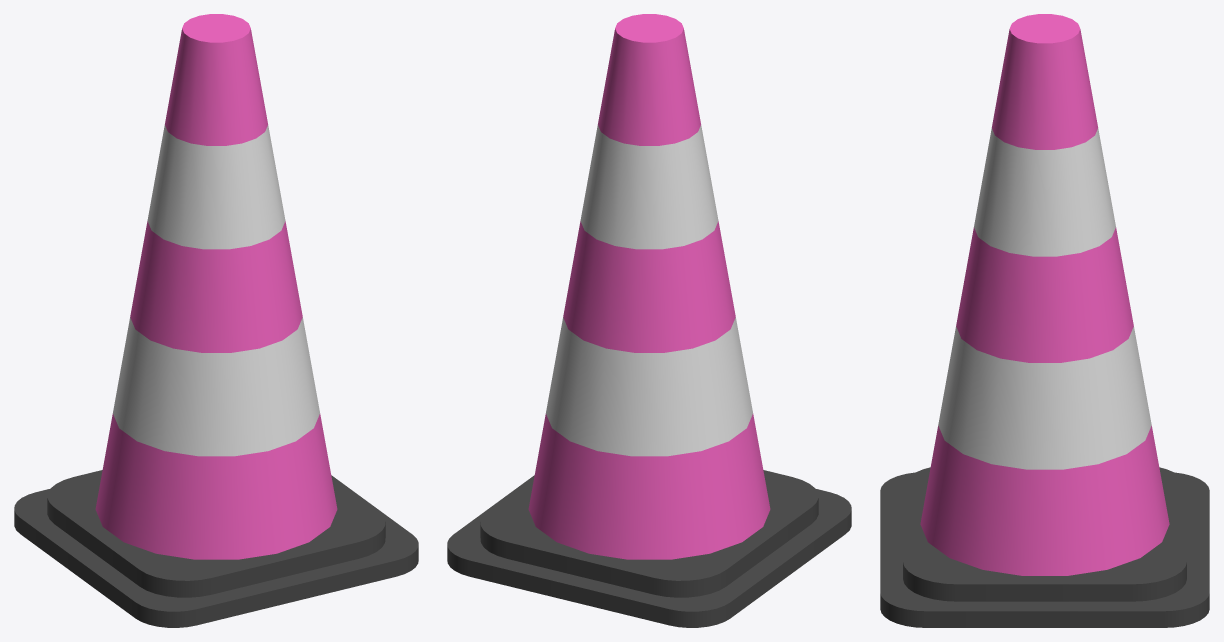
The picture shows the model from 3 angles, left to right: view 1: azimuth 30°, elevation 25°; view 2: azimuth 150°, elevation 25°; view 3: azimuth 270°, elevation 25°; orthographic projection. The views are drawn at different scales.
Visible parts, largest first — view 1: Cone D; view 2: Cone D; view 3: Cone D.
Boxes of the visible parts, x1,y1,x2,y2 form: Cone D: [14, 14, 418, 627]; Cone D: [447, 14, 851, 627]; Cone D: [880, 14, 1209, 627].
Bounding box in the file's own units: 77.71 × 138 × 77.71.
